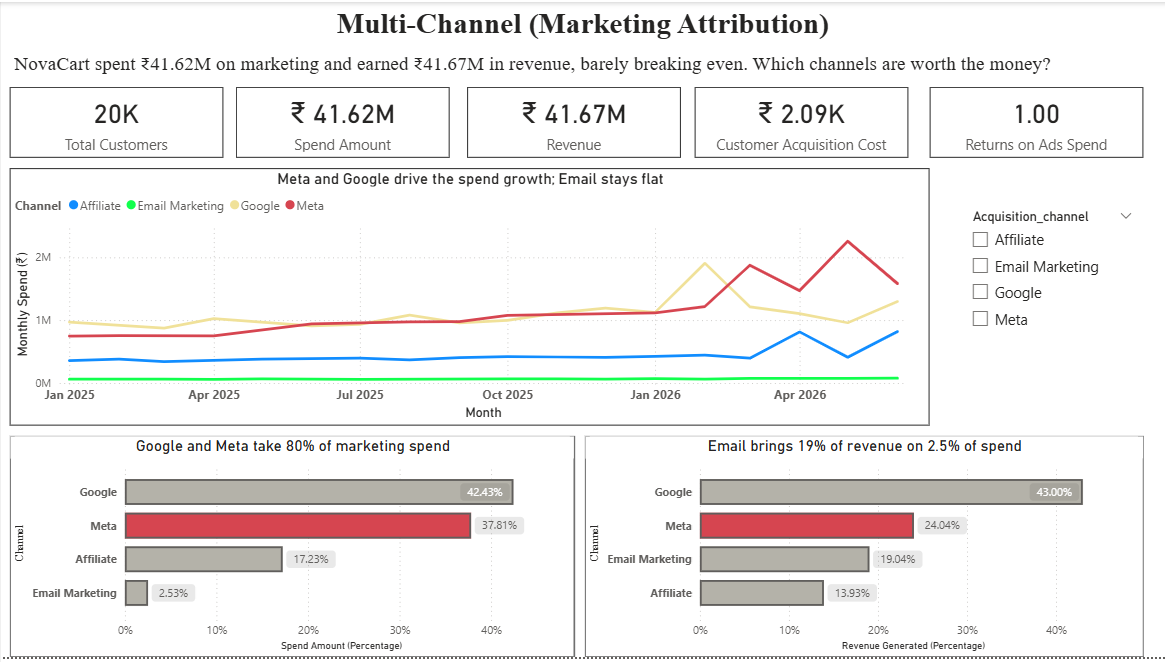

The dashboard page shown, as its layout file describes it:
{"tool":"powerbi","page":{"name":"Page 1","canvas":[1280,720],"ordinal":0},"visuals":[{"type":"textbox","box":[9.6,0,1258.3,50.8],"z":0},{"type":"card","fields":{"Values":["customer1.Total Customers"]},"box":[9.7,93.1,234.7,77.8],"z":1000},{"type":"card","fields":{"Values":["marketing1.Spend Amount"]},"box":[258.3,93.1,234.7,77.8],"z":2000},{"type":"card","fields":{"Values":["order1.Revenue"]},"box":[512.5,93.1,234.7,77.8],"z":3000},{"type":"card","fields":{"Values":["customer1.Returns on Ads Spend"]},"box":[1019.4,93.1,234.7,77.8],"z":4000},{"type":"card","fields":{"Values":["customer1.Customer Aquisition Cost"]},"box":[761.1,93.1,234.7,77.8],"z":5000},{"type":"barChart","title":"Google and Meta take 80% of marketing spend","fields":{"Category":["marketing1.Channel"],"Y":["marketing1.Spend Amount"]},"box":[9.6,476.2,620.2,242.9],"z":6000},{"type":"barChart","title":"Email brings 19% of revenue on 2.5% of spend","fields":{"Y":["Sum(order1.Order_amount)"],"Category":["marketing1.Channel"]},"box":[640.8,476.2,613.4,242.9],"z":7000},{"type":"slicer","fields":{"Values":["summary1.Acquisition_channel"]},"box":[1054.2,222.2,200,151.4],"z":8000},{"type":"lineChart","title":"Meta and Google drive the spend growth; Email stays flat","fields":{"Y":["Sum(marketing1.Spend_amount)"],"Series":["marketing1.Channel"],"Category":["marketing1.Month.Variation.Date Hierarchy.Year","marketing1.Month.Variation.Date Hierarchy.Quarter","marketing1.Month.Variation.Date Hierarchy.Month"]},"box":[9.6,182.5,1010,282.7],"z":9000},{"type":"textbox","box":[9.7,51.4,1258.3,41.7],"z":10000}]}

Visuals, with their boxes in screenshot pixels (x1, y1, x2, y2), scaled from the page's 1280x720 canvas onto the 1165x662 screenshot:
textbox: Rect(9, 0, 1154, 47)
card - customer1.Total Customers: Rect(9, 86, 222, 157)
card - marketing1.Spend Amount: Rect(235, 86, 449, 157)
card - order1.Revenue: Rect(466, 86, 680, 157)
card - customer1.Returns on Ads Spend: Rect(928, 86, 1141, 157)
card - customer1.Customer Aquisition Cost: Rect(693, 86, 906, 157)
"Google and Meta take 80% of marketing spend" barChart: Rect(9, 438, 573, 661)
"Email brings 19% of revenue on 2.5% of spend" barChart: Rect(583, 438, 1142, 661)
slicer - summary1.Acquisition_channel: Rect(959, 204, 1142, 344)
"Meta and Google drive the spend growth; Email stays flat" lineChart: Rect(9, 168, 928, 428)
textbox: Rect(9, 47, 1154, 86)
